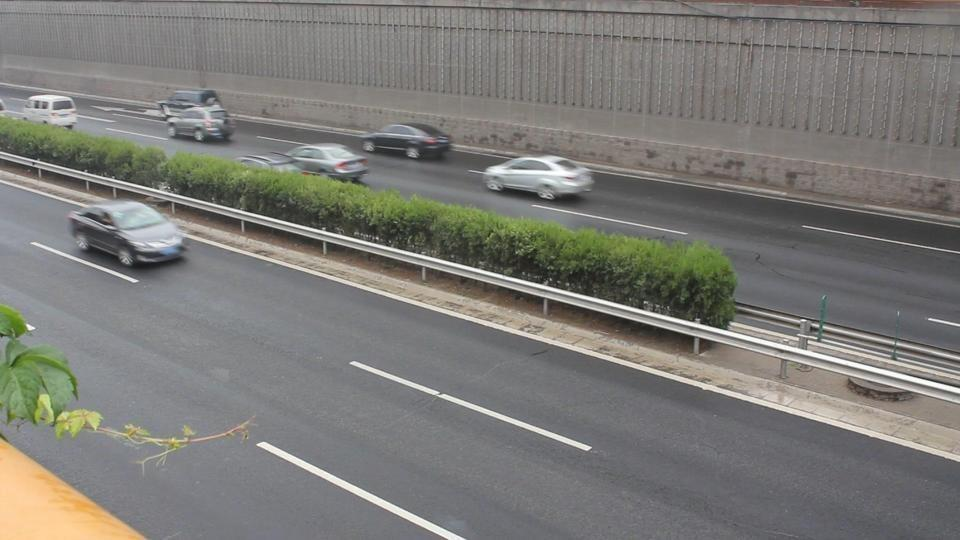car: (66, 200, 186, 268), (283, 135, 454, 174), (477, 155, 595, 201), (360, 122, 453, 161), (285, 143, 370, 184), (159, 99, 231, 142), (20, 93, 78, 130)
